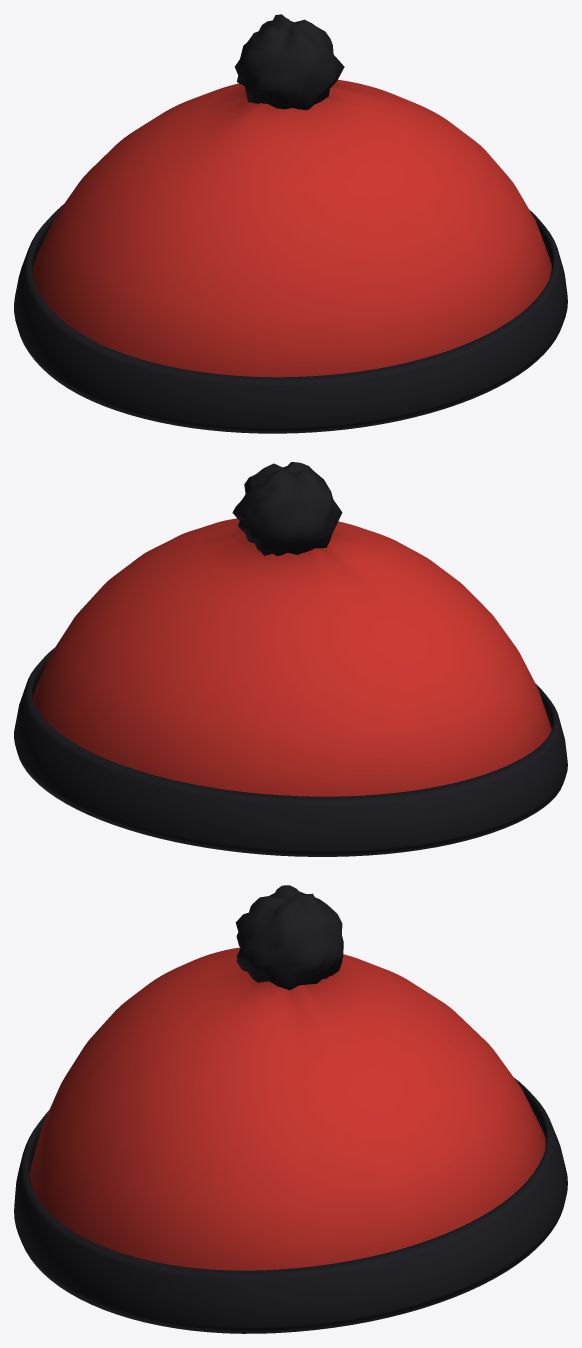
The model's file is hw_knit.glb.
The picture shows the model from 3 angles, top to bottom: view 1: azimuth 30°, elevation 25°; view 2: azimuth 150°, elevation 25°; view 3: azimuth 270°, elevation 25°; orthographic projection. The views are drawn at different scales.
Parts seen in each view (by area): view 1: hw_knit, hw_knit_cuff, hw_knit_bobble; view 2: hw_knit, hw_knit_cuff, hw_knit_bobble; view 3: hw_knit, hw_knit_cuff, hw_knit_bobble.
Boxes of the visible parts, x1=… form: hw_knit: x1=33, y1=79, x2=551, y2=377; hw_knit_cuff: x1=14, y1=204, x2=567, y2=433; hw_knit_bobble: x1=235, y1=14, x2=344, y2=110; hw_knit: x1=33, y1=518, x2=551, y2=796; hw_knit_cuff: x1=14, y1=648, x2=567, y2=856; hw_knit_bobble: x1=232, y1=462, x2=342, y2=556; hw_knit: x1=29, y1=947, x2=545, y2=1270; hw_knit_cuff: x1=14, y1=1078, x2=567, y2=1333; hw_knit_bobble: x1=235, y1=885, x2=343, y2=990.
Bounding box in the file's own units: 0.9205 × 0.543 × 0.8383.
